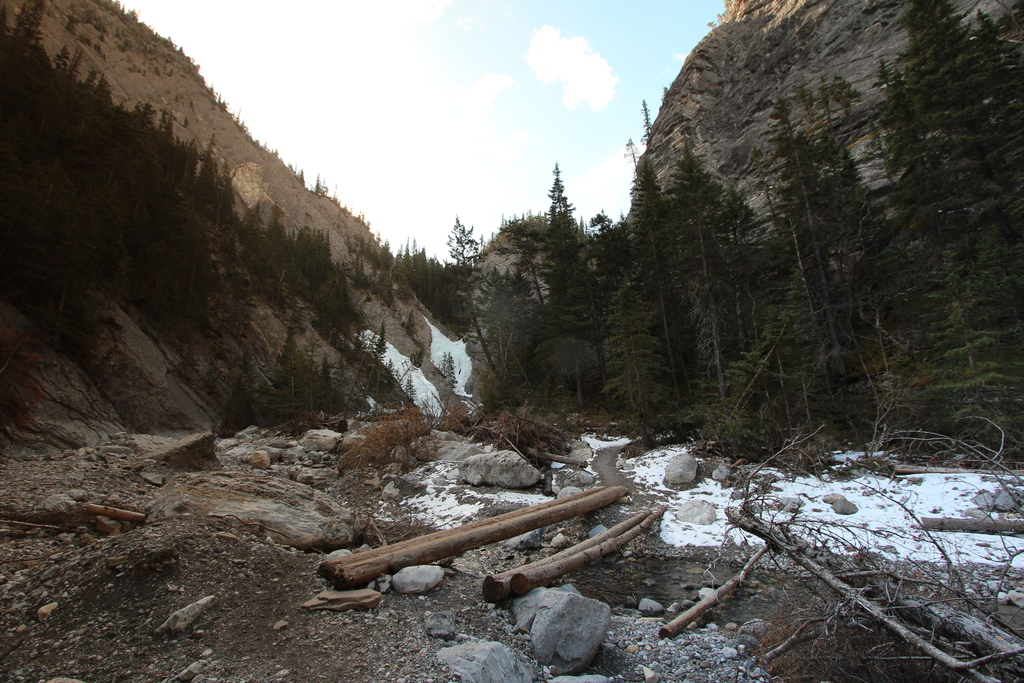Tree: (0, 0, 471, 440), (629, 0, 1022, 467), (460, 144, 643, 419)
